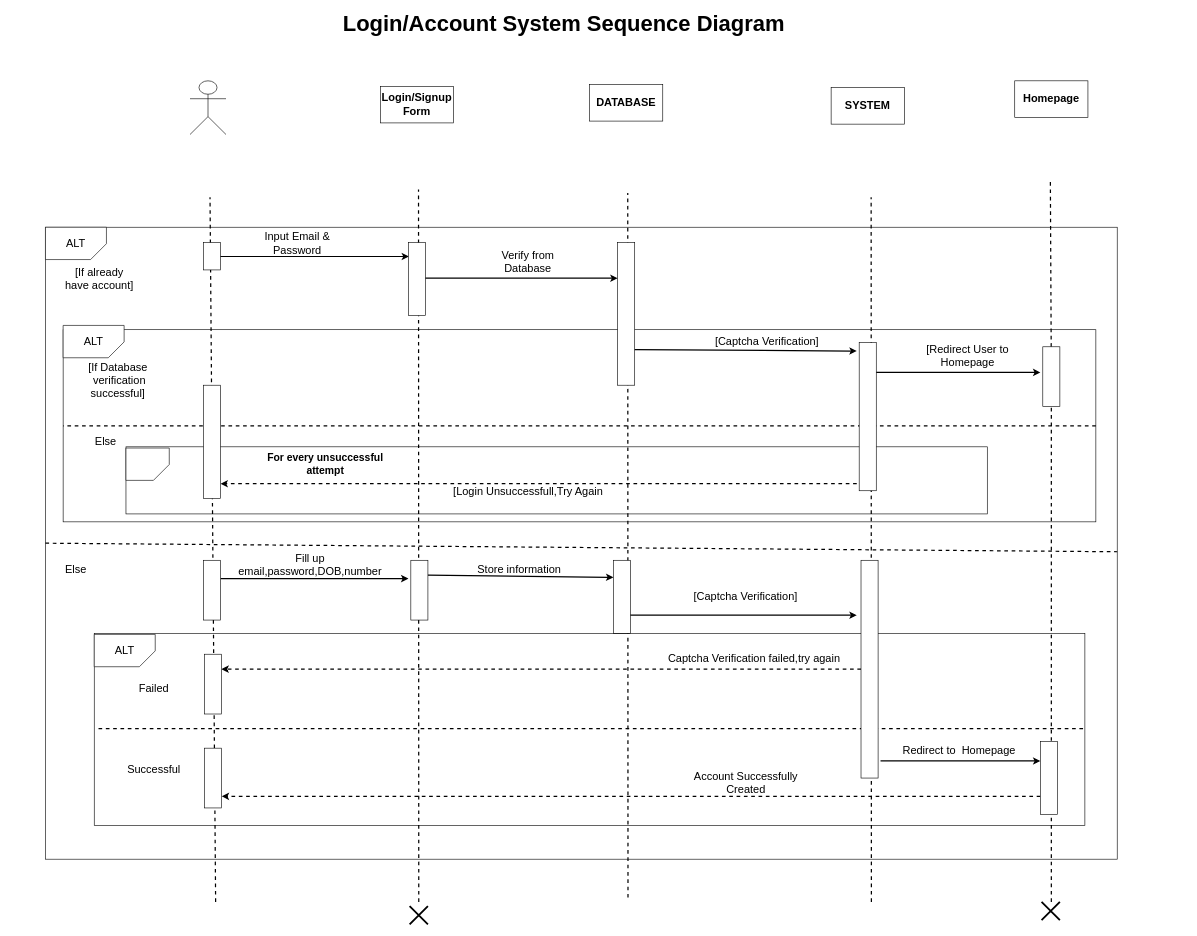
The diagram is 1197 pixels wide and 936 high, and some of its shapes have lost their labels. The shapes that lost their labels are listed below. From the top down, each one's centre as x and y in pixels, then its label:
(x=207, y=107): USER
(x=147, y=463): Loop
